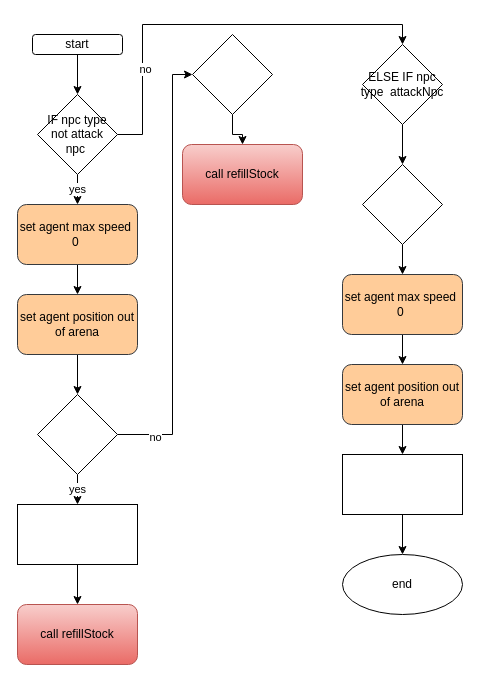
Image size: 480x682. Some labels were removed from this diagram. Each missing label, with the box of its shape:
ELSE IF npc type mechMan: (192, 34, 272, 114)
get the stock tower id: (16, 504, 138, 564)
IF locked sight and attack rng target empty: (362, 164, 442, 244)
IF npc type is stock: (36, 394, 118, 474)
set npc as rest agent: (342, 454, 462, 514)
